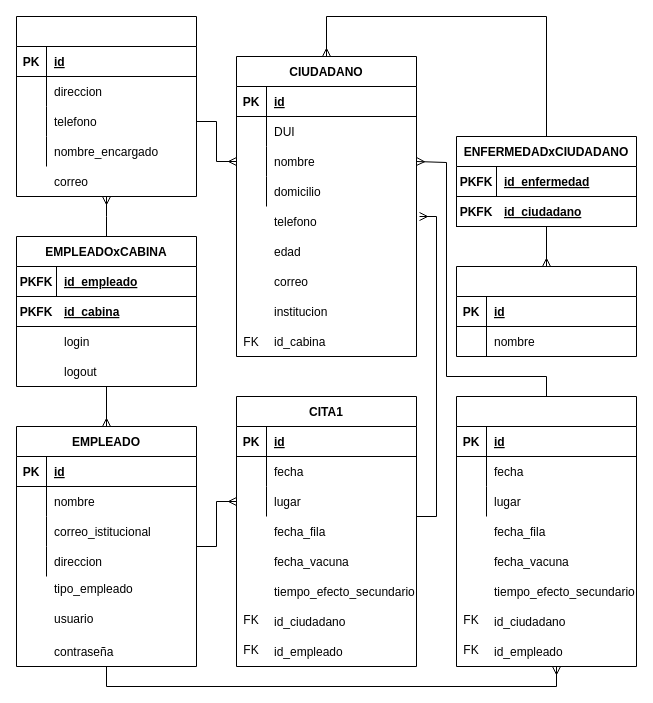
Image size: 653x703. Some labels were removed from this diagram. Here are the shapes that lost their labels. From the top down, the box of each, then its label:
(16, 16, 196, 196): CABINA
(456, 266, 636, 356): ENFERMEDAD_CRONICA
(456, 396, 636, 666): CITA2
